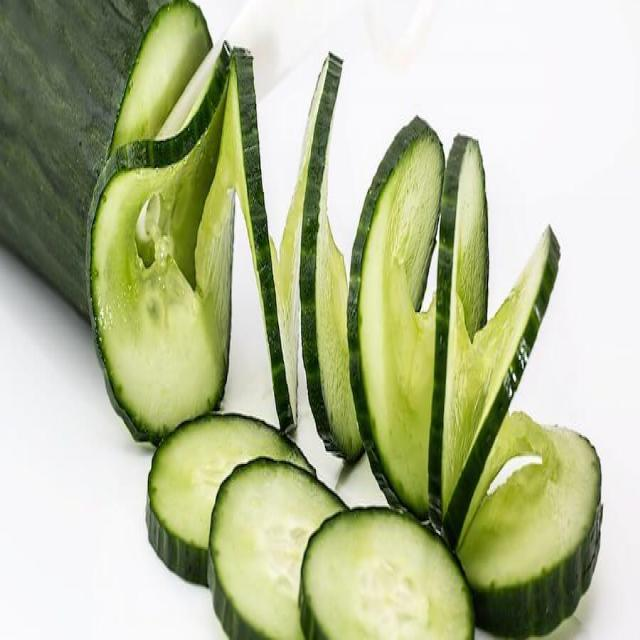Pickle: (348, 118, 559, 548), (281, 53, 362, 461), (458, 411, 602, 636), (146, 413, 315, 584), (209, 458, 346, 637), (299, 509, 474, 638)
